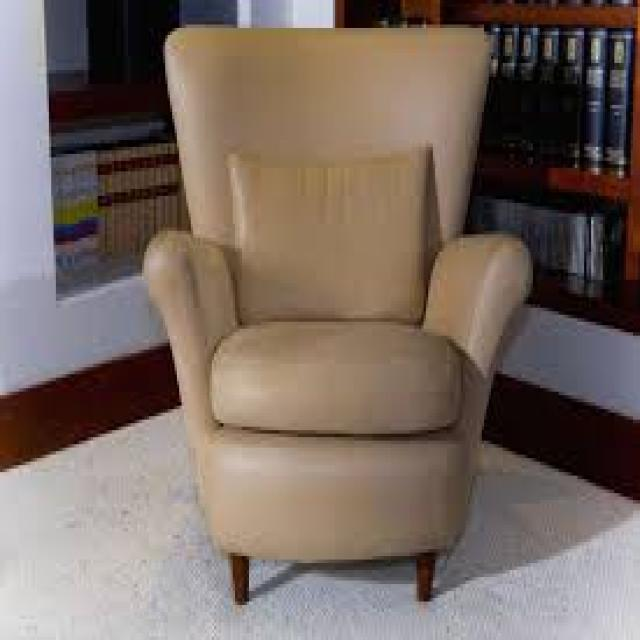chair: (125, 2, 534, 640)
